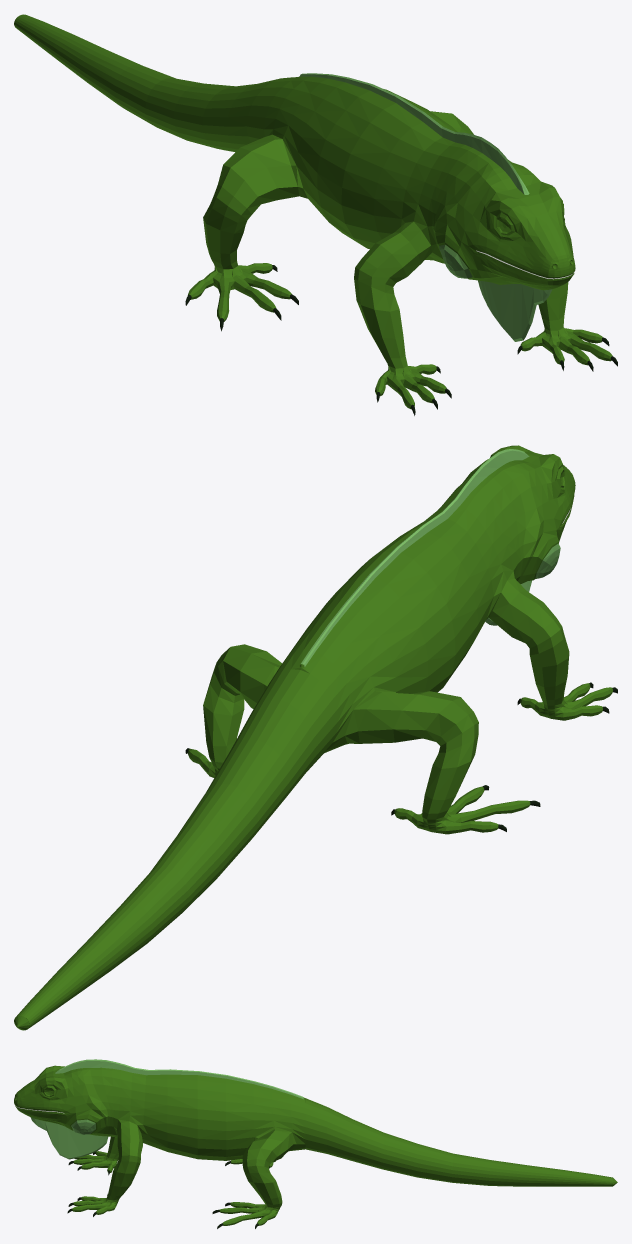
File: iguana_iguana.obj
3 views of the same model, one above another, from view 1: azimuth 30°, elevation 25°; view 2: azimuth 150°, elevation 25°; view 3: azimuth 270°, elevation 25° (orthographic). The views are drawn at different scales.
Size of the model in its own units: 0.2585 by 0.1771 by 0.7636.
